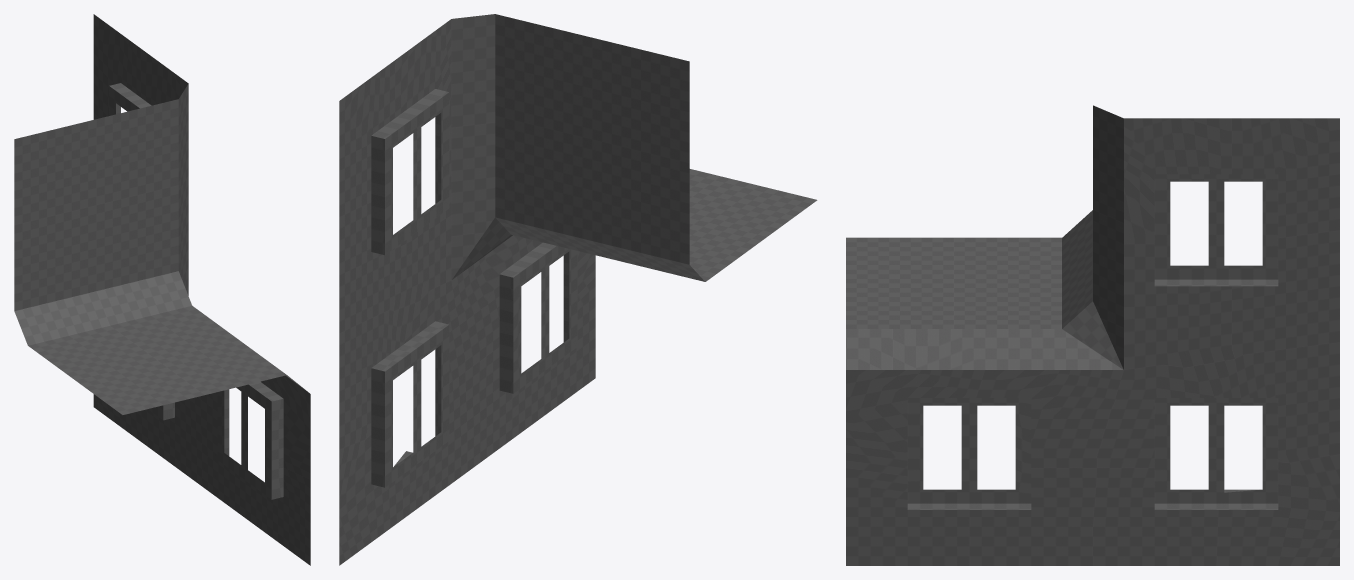
The picture shows the model from 3 angles, left to right: view 1: azimuth 30°, elevation 25°; view 2: azimuth 150°, elevation 25°; view 3: azimuth 270°, elevation 25°; orthographic projection. The views are drawn at different scales.
Visible parts, largest first — view 1: 3; view 2: 3; view 3: 3.
Part boxes in pixels (x1,y1,x2,y2): 3: (14, 14, 310, 565); 3: (339, 14, 817, 565); 3: (846, 105, 1339, 565).
Size of the model in its own units: 2 by 4 by 4.
Materials: 2 (2 with a texture image).
